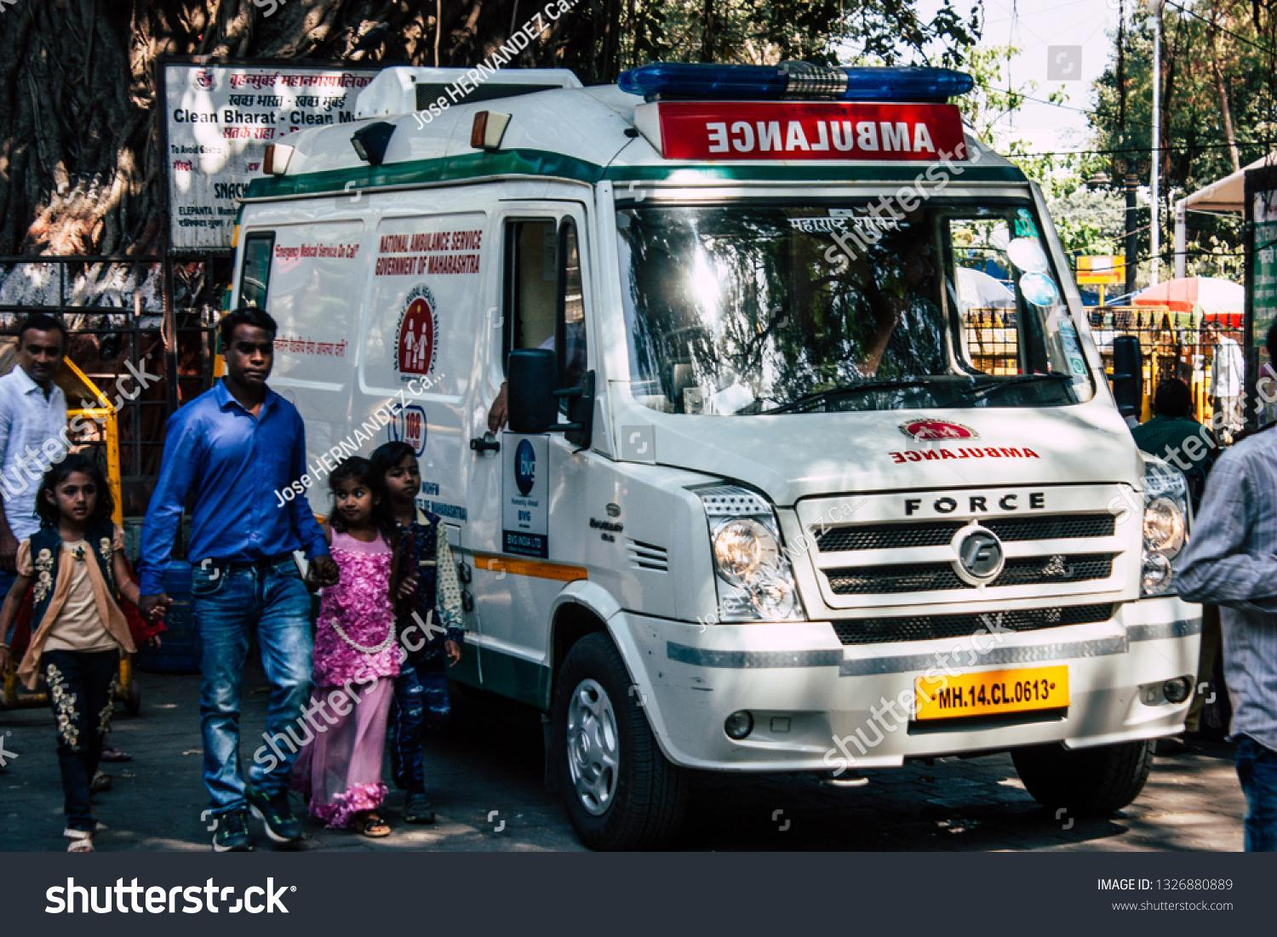Ambulance: (690, 110, 948, 165), (864, 435, 1047, 469)
